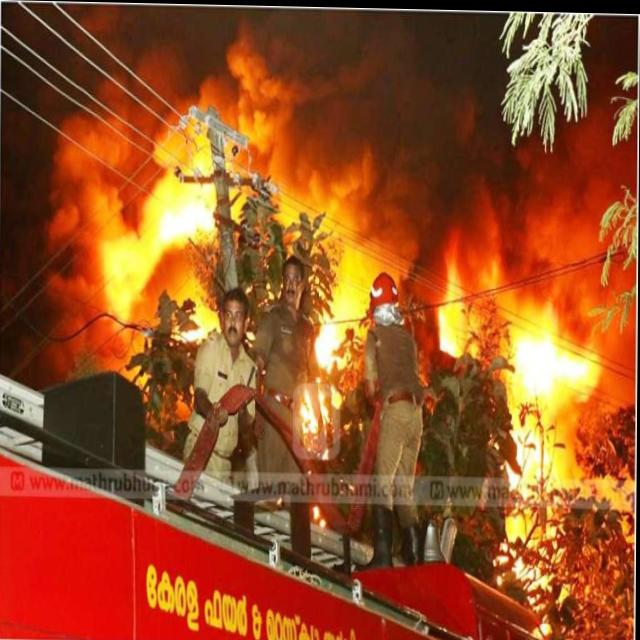fire: (95, 125, 218, 345), (502, 289, 607, 415), (297, 291, 354, 446), (503, 416, 562, 519), (499, 546, 562, 638), (431, 253, 475, 367)
